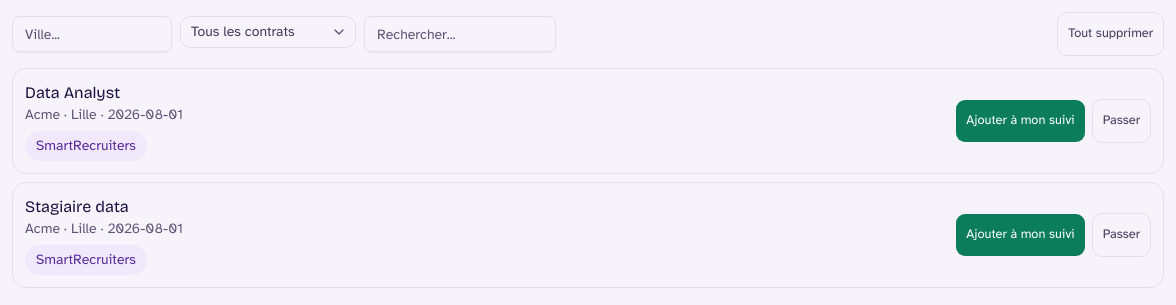
Scenario: ReviewQueueManager › filters the list by contract type using the design-system Select
Click the dropdown named "Filtrer par type de contrat" at {"x": 268, "y": 32}, box [180,16,356,48]
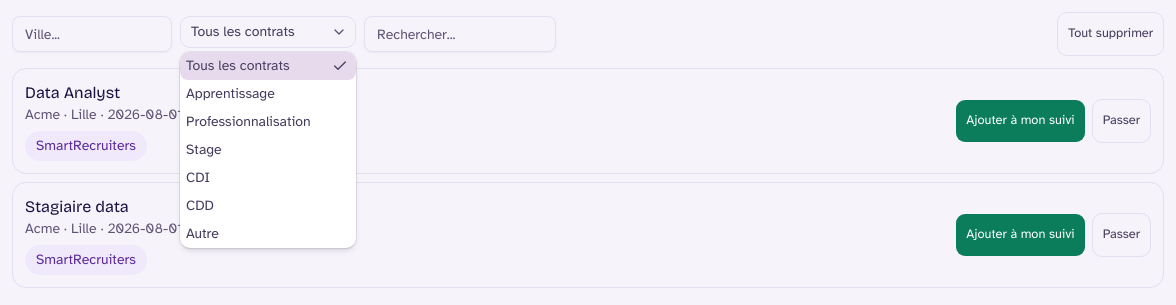
Click the option "Stage" at {"x": 204, "y": 150}, box [186,141,222,158]
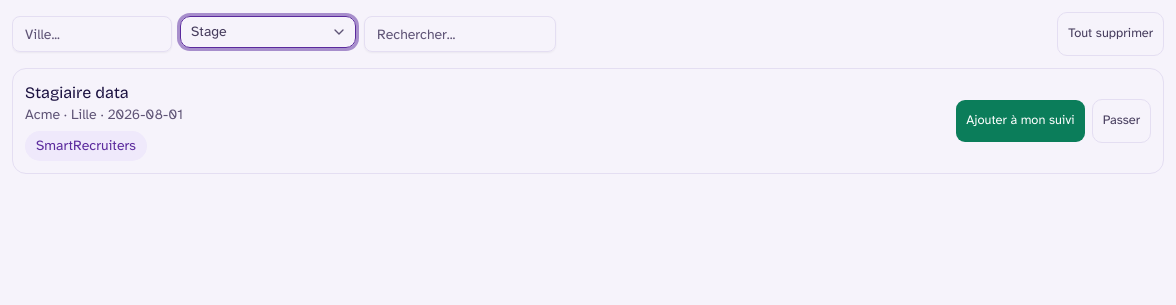
Check: the link "Stagiaire data" is shown, box [25,83,129,102]
Check: the link "Data Analyst" is gone
